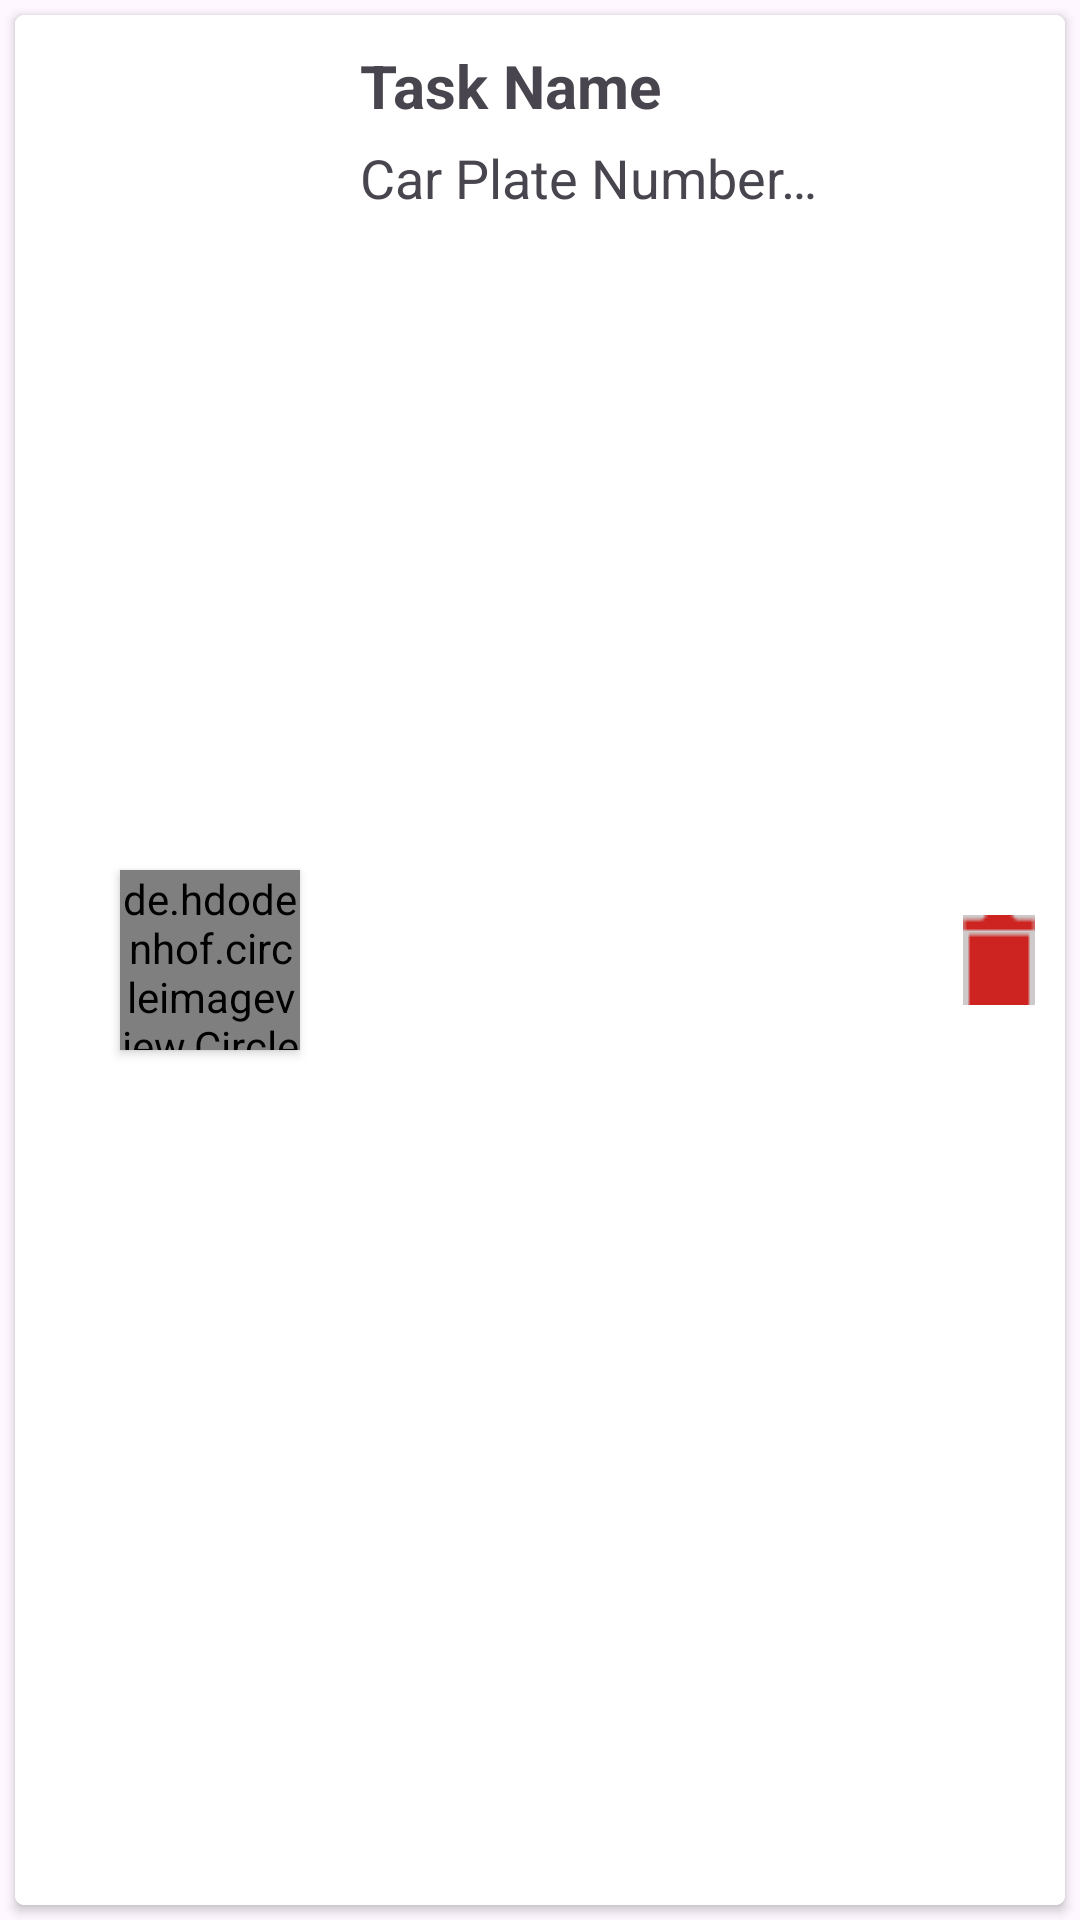

Icons on this 1080px x 1920px Android screen, each with the point to tap as point (x, y):
delete: point (999, 960)
